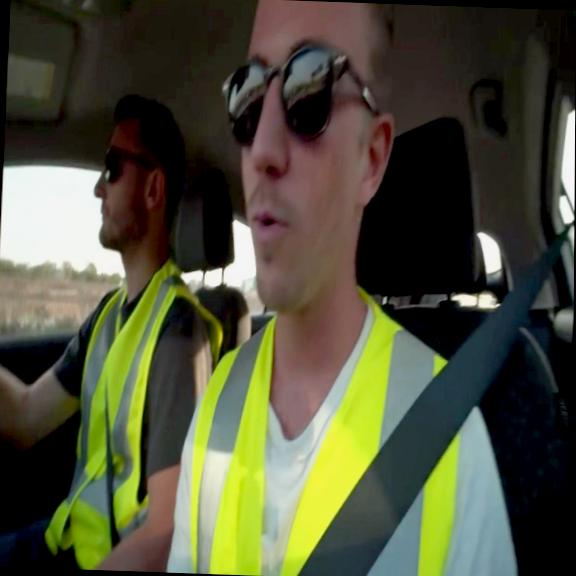safety_vest: (188, 282, 466, 576), (42, 255, 225, 574)
